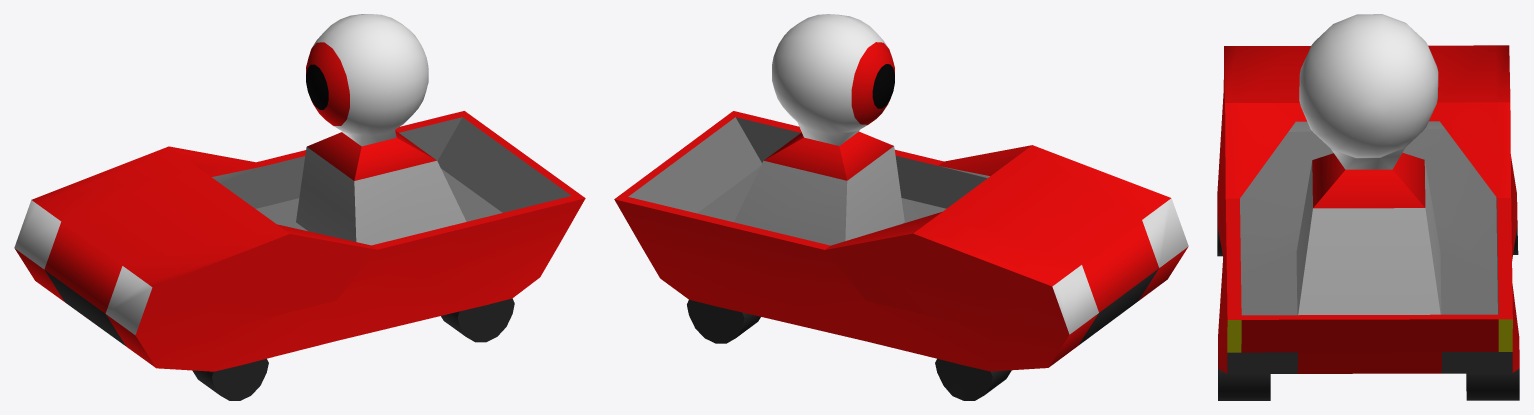
File: WarExplorerRed.fbx
3 renders of one model, left to right at view 1: azimuth 30°, elevation 25°; view 2: azimuth 150°, elevation 25°; view 3: azimuth 270°, elevation 25°, orthographic. The views are drawn at different scales.
Visible parts, largest first — view 1: pSphere2; view 2: pSphere2; view 3: pSphere2.
Boxes of the visible parts, x1,y1,x2,y2 form: pSphere2: (14,14,585,400); pSphere2: (614,14,1188,400); pSphere2: (1217,14,1519,400).
Size of the model in its own units: 4.32 by 2.64 by 2.1.
